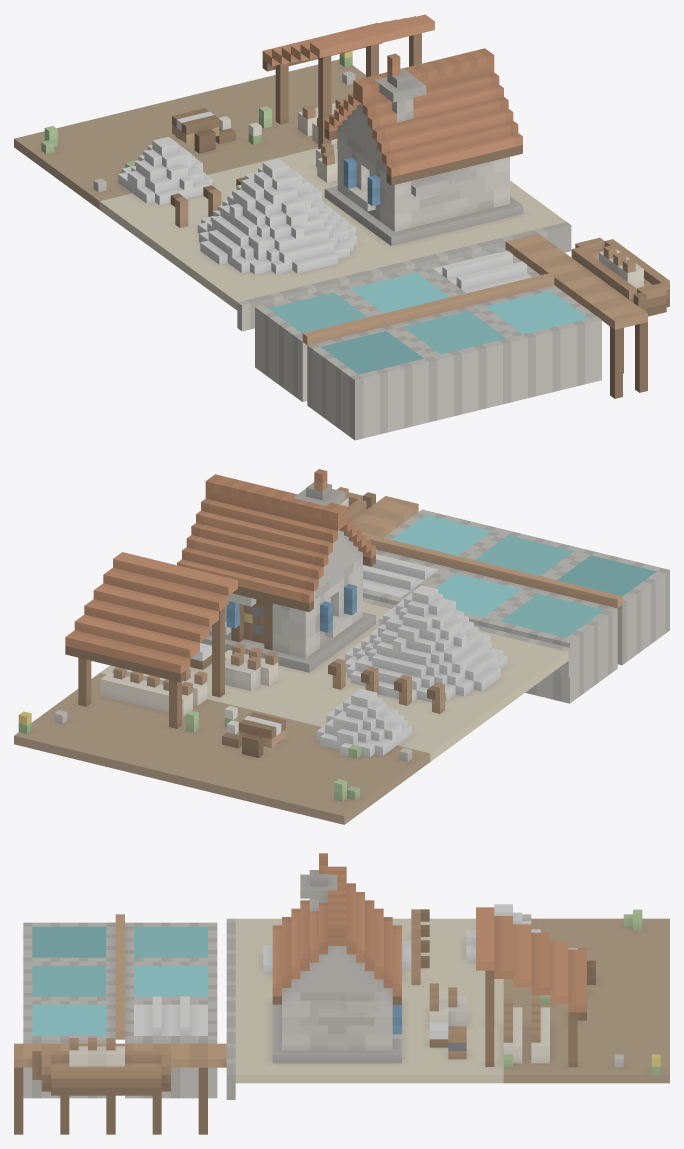
Rendered from salt_pans.glb.
3 renders of one model, top to bottom at view 1: azimuth 30°, elevation 25°; view 2: azimuth 150°, elevation 25°; view 3: azimuth 270°, elevation 25°, orthographic. The views are drawn at different scales.
Parts seen in each view (by area): view 1: salt_pans; view 2: salt_pans; view 3: salt_pans.
Boxes of the visible parts, x1=… form: salt_pans: x1=14, y1=14, x2=669, y2=440; salt_pans: x1=14, y1=469, x2=669, y2=824; salt_pans: x1=14, y1=853, x2=669, y2=1134.
Bounding box in the file's own units: 5.12 × 3.5 × 8.88.
